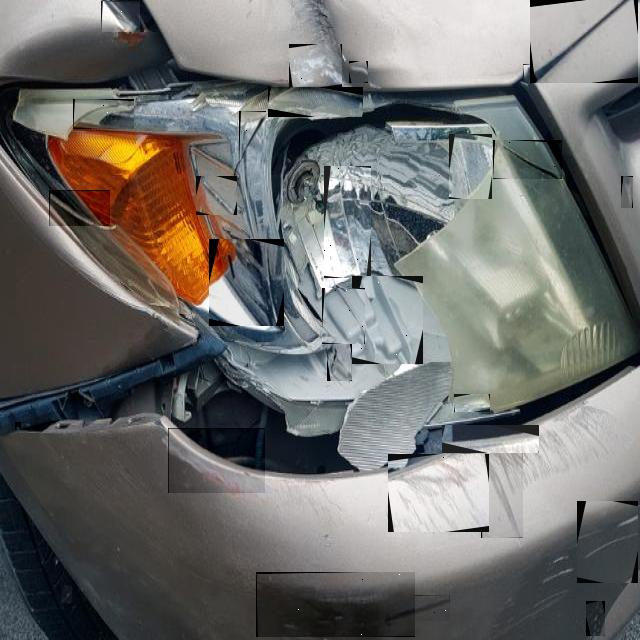Dent: (256, 572, 415, 637), (530, 0, 638, 83), (388, 454, 489, 532), (209, 239, 284, 326), (168, 428, 265, 493), (352, 276, 423, 364), (324, 166, 371, 278), (577, 501, 638, 583), (481, 448, 523, 538), (268, 87, 363, 117), (449, 134, 492, 199), (442, 425, 539, 453), (493, 140, 562, 179), (322, 288, 365, 344), (289, 44, 342, 87), (49, 190, 110, 226), (73, 99, 134, 129), (384, 595, 450, 621), (196, 176, 237, 215), (239, 111, 266, 162), (101, 1, 140, 32), (327, 338, 352, 381), (586, 601, 605, 636), (454, 394, 490, 412), (349, 61, 368, 83), (621, 176, 633, 208), (523, 64, 534, 82), (61, 585, 72, 603), (360, 298, 368, 306), (15, 422, 21, 429), (54, 557, 58, 565)
